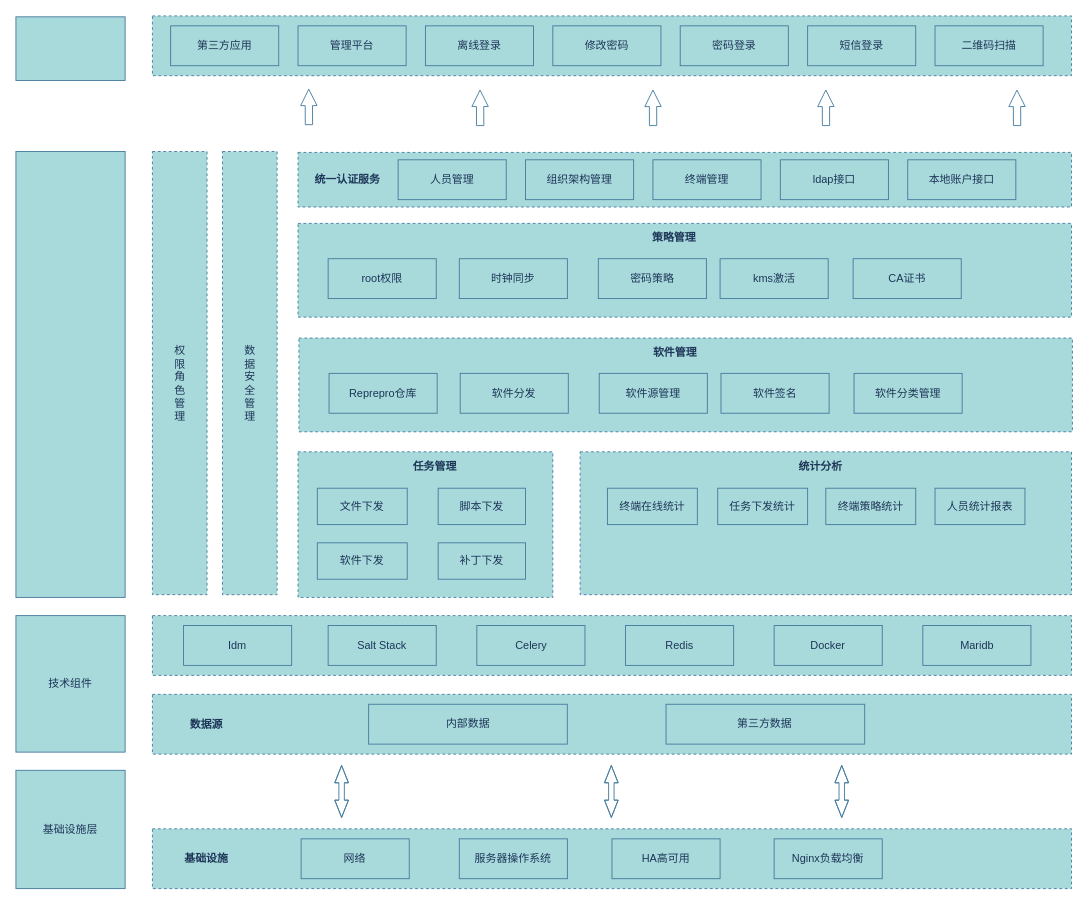
The diagram is 1088 pixels wide and 905 high, and some of its shapes have lost their labels. The centre of each missing label's shape, as x and y in pixels:
"应用层" goes at (x=70, y=48).
"数据服务层" goes at (x=70, y=374).
